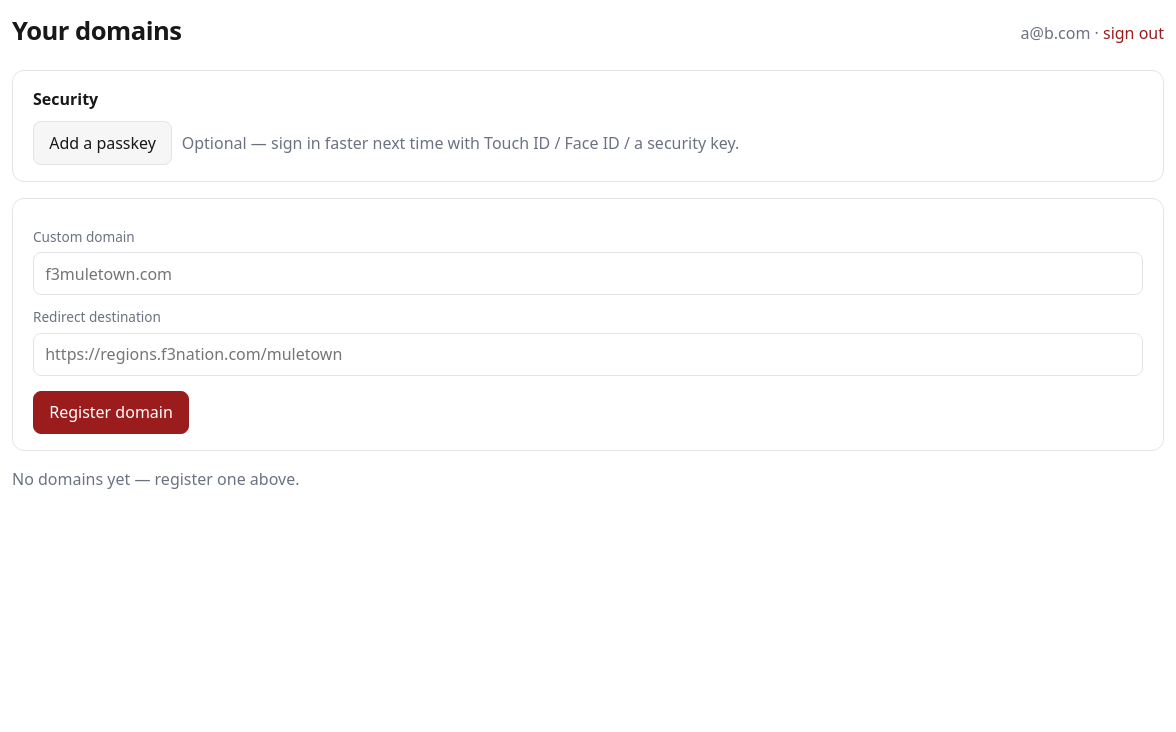
it: Dashboard › surfaces the 'already claimed' error from the API
This screenshot has width=1176, height=732.
Type "x.com" into the field labelled "Custom domain". click: (588,274)
box: [33,252,1143,295]
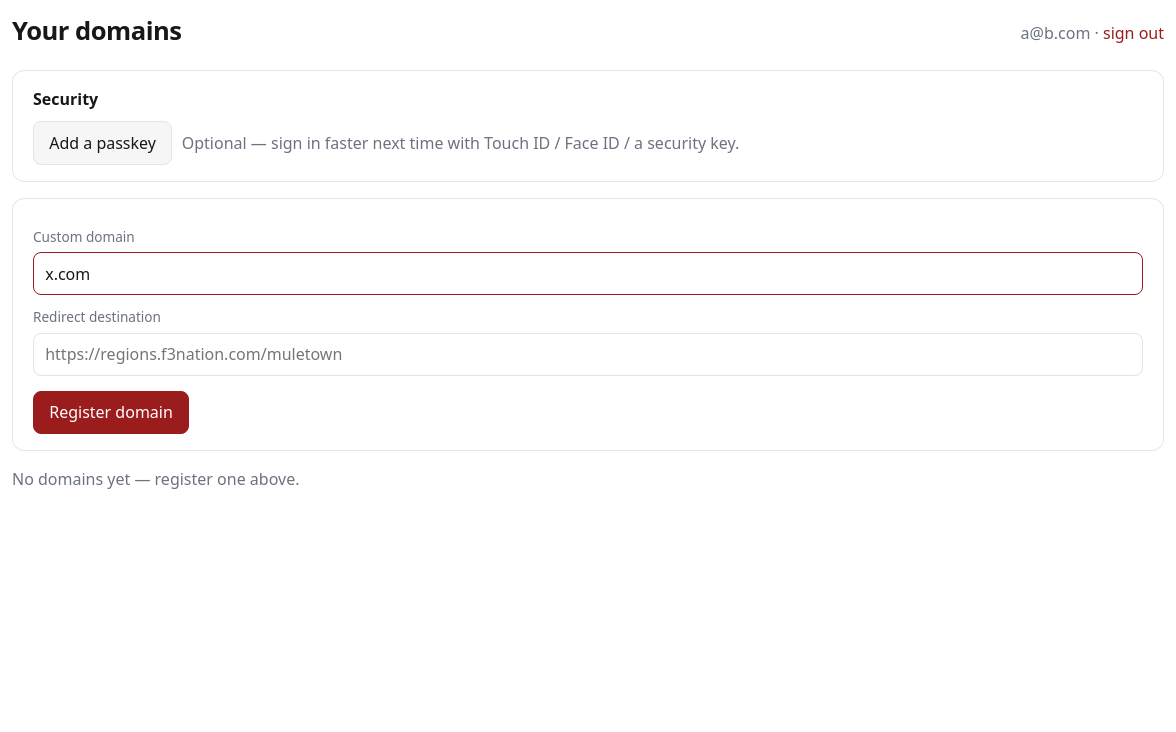
Type "https://y.com" into the field labelled "Redirect destination". click: (588,354)
box: [33,332,1143,376]
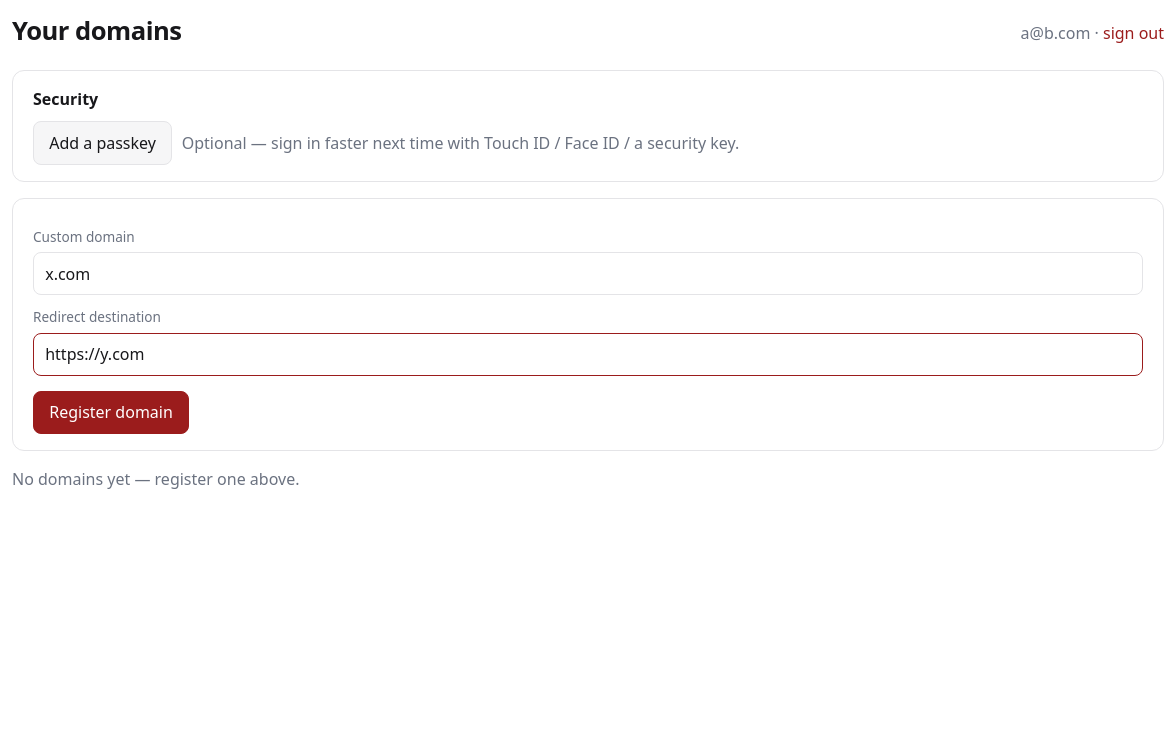
Click the button "Register domain". click: (111,412)
box: [33,390,189,434]
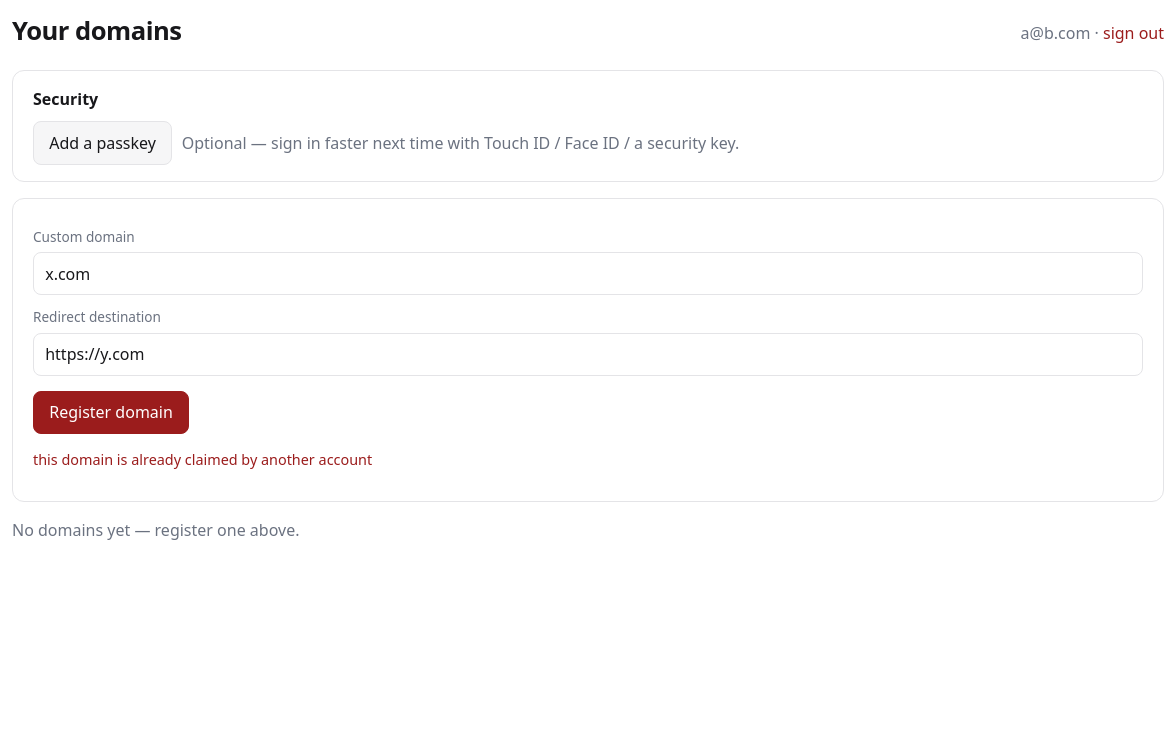
Expected: the text "this domain is already claimed by another account" is shown, [33,450,372,468]
